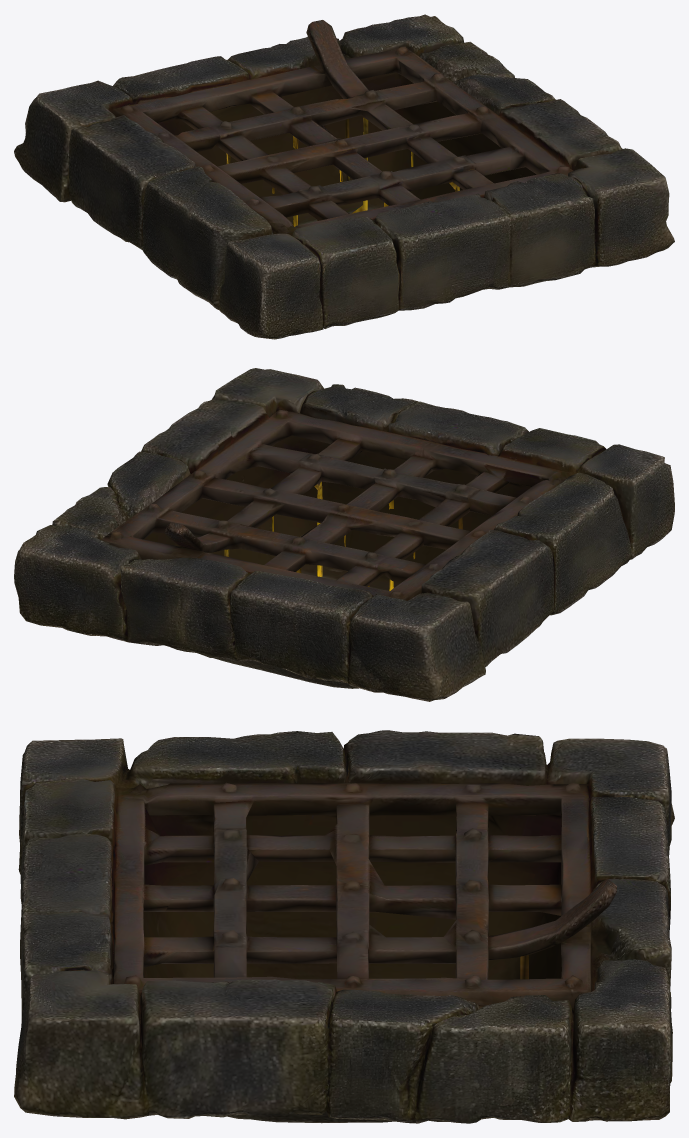
The model's file is iron-floor-grate.glb.
3 views of the same model, one above another, from view 1: azimuth 30°, elevation 25°; view 2: azimuth 150°, elevation 25°; view 3: azimuth 270°, elevation 25° (orthographic). The views are drawn at different scales.
Parts seen in each view (by area): view 1: tripo_node_54728c07-8889-4dee-82fb-3b64fb7bb481; view 2: tripo_node_54728c07-8889-4dee-82fb-3b64fb7bb481; view 3: tripo_node_54728c07-8889-4dee-82fb-3b64fb7bb481.
Boxes of the visible parts, x1,y1,x2,y2 form: tripo_node_54728c07-8889-4dee-82fb-3b64fb7bb481: (14,14,674,339); tripo_node_54728c07-8889-4dee-82fb-3b64fb7bb481: (14,368,674,701); tripo_node_54728c07-8889-4dee-82fb-3b64fb7bb481: (14,730,674,1123).
Size of the model in its own units: 1 by 0.3623 by 0.9999.
Materials: 1 (1 with a texture image).
